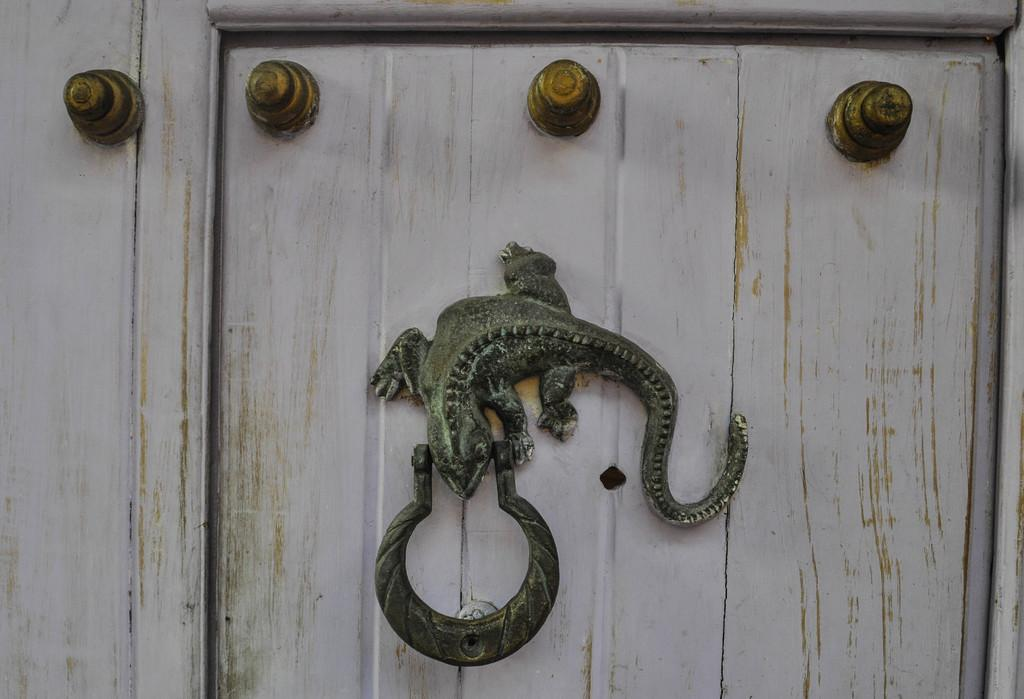handle: (362, 463, 572, 671)
